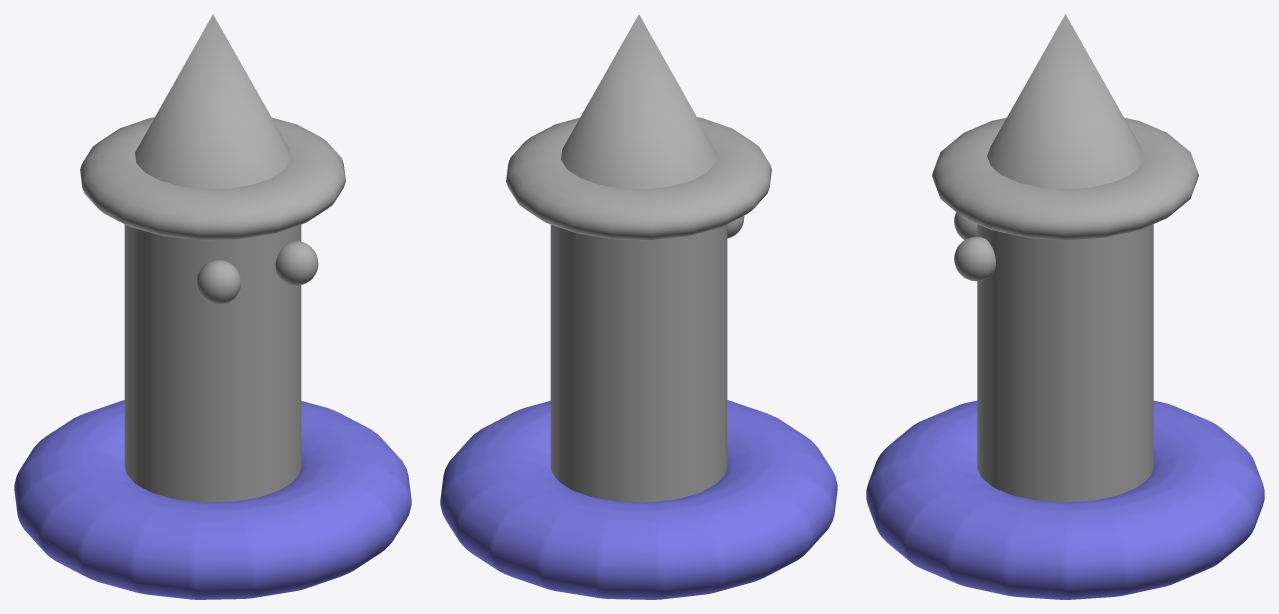
The model's file is PlayerType2.fbx.
The picture shows the model from 3 angles, left to right: view 1: azimuth 30°, elevation 25°; view 2: azimuth 150°, elevation 25°; view 3: azimuth 270°, elevation 25°; orthographic projection.
Visible parts, largest first — view 1: polySurface10, polySurface13, polySurface11, polySurface12, polySurface7, polySurface9; view 2: polySurface10, polySurface13, polySurface11, polySurface12; view 3: polySurface10, polySurface13, polySurface11, polySurface12, polySurface9.
Boxes of the visible parts, bbox=[...] form: polySurface10: bbox=[14, 400, 411, 599]; polySurface13: bbox=[124, 224, 301, 502]; polySurface11: bbox=[80, 117, 345, 240]; polySurface12: bbox=[135, 14, 290, 188]; polySurface7: bbox=[196, 260, 240, 304]; polySurface9: bbox=[275, 241, 318, 285]; polySurface10: bbox=[440, 400, 837, 599]; polySurface13: bbox=[550, 224, 727, 502]; polySurface11: bbox=[506, 117, 771, 240]; polySurface12: bbox=[561, 14, 716, 188]; polySurface10: bbox=[866, 400, 1264, 599]; polySurface13: bbox=[977, 224, 1153, 502]; polySurface11: bbox=[932, 117, 1198, 240]; polySurface12: bbox=[987, 14, 1143, 189]; polySurface9: bbox=[954, 236, 995, 281].
Size of the model in its own units: 4.47 by 6.45 by 4.47.
